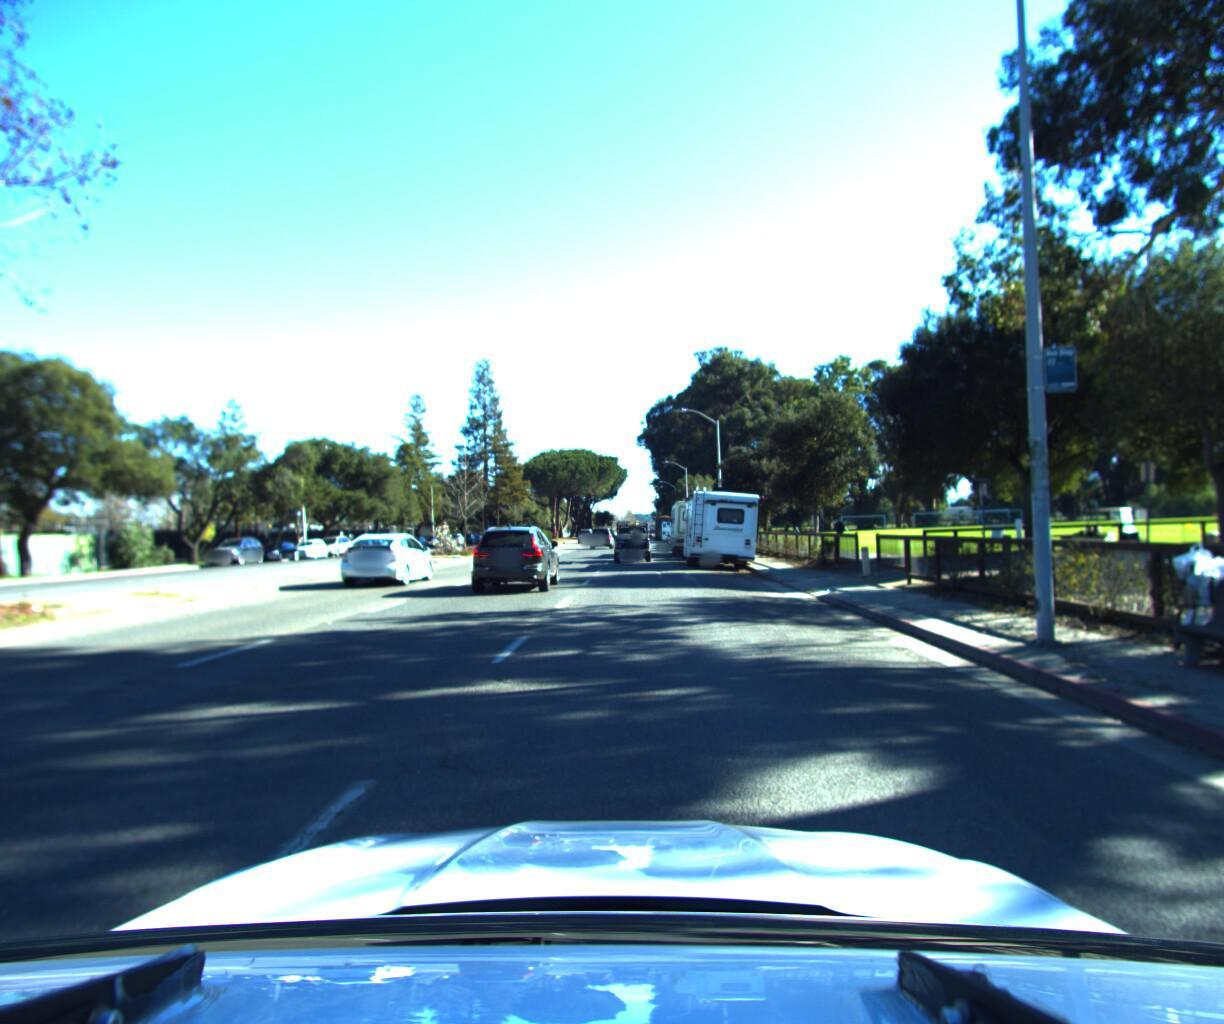car: (330, 527, 442, 592), (471, 521, 564, 594), (608, 511, 657, 560), (205, 535, 270, 565), (251, 538, 305, 563), (314, 533, 356, 557), (290, 536, 331, 560), (588, 522, 616, 546)
other_vehicle: (682, 482, 768, 568), (1038, 497, 1154, 548), (666, 493, 727, 555)
